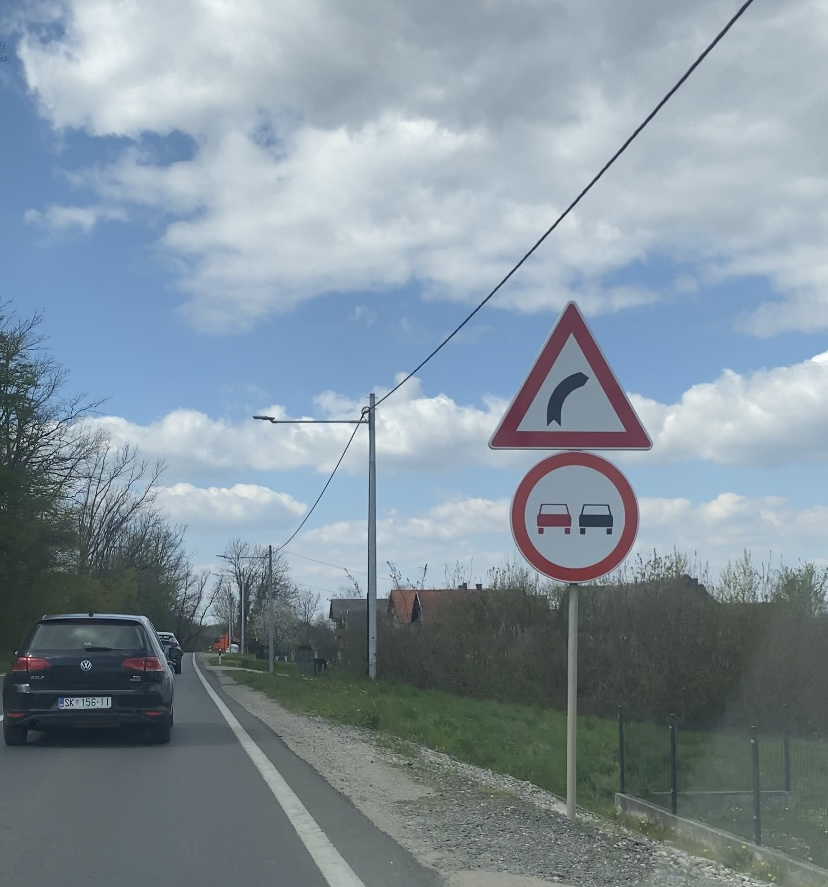Zabrana pretjecanja: (510, 451, 639, 584)
